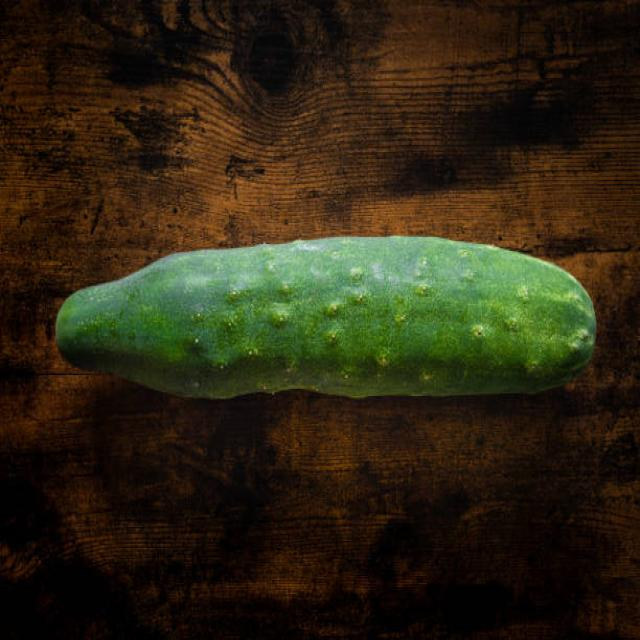cucumber: (54, 235, 595, 402)
